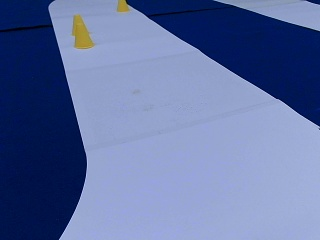cone: (71, 17, 93, 49), (116, 0, 128, 11)
